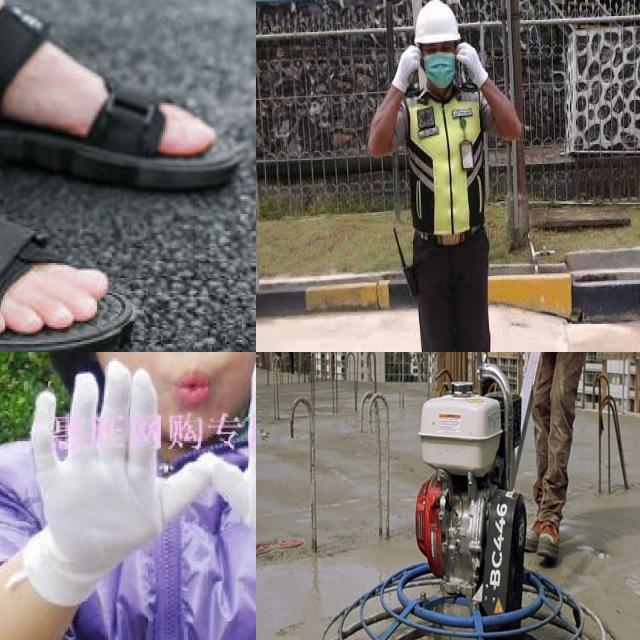Sandals: (0, 120, 144, 352)
boots: (523, 498, 561, 566)
face_nomask: (96, 352, 256, 437)
hand_glove: (32, 360, 210, 588), (221, 357, 256, 570)
head_helmet: (410, 0, 463, 45)
person: (0, 352, 256, 640), (374, 0, 526, 352), (478, 352, 640, 563), (275, 352, 302, 374)
vest: (401, 89, 492, 242)
